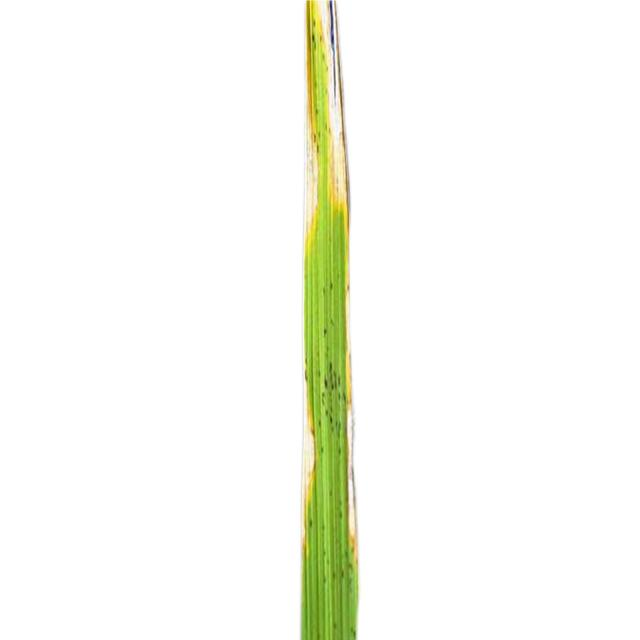Leaf scald: (215, 0, 514, 640)
